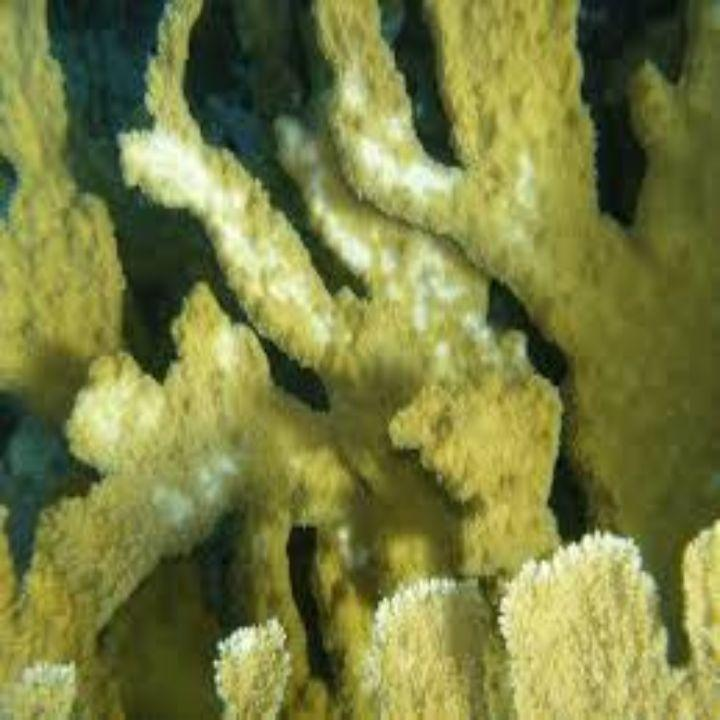White Pox Disease: (66, 104, 649, 675)
